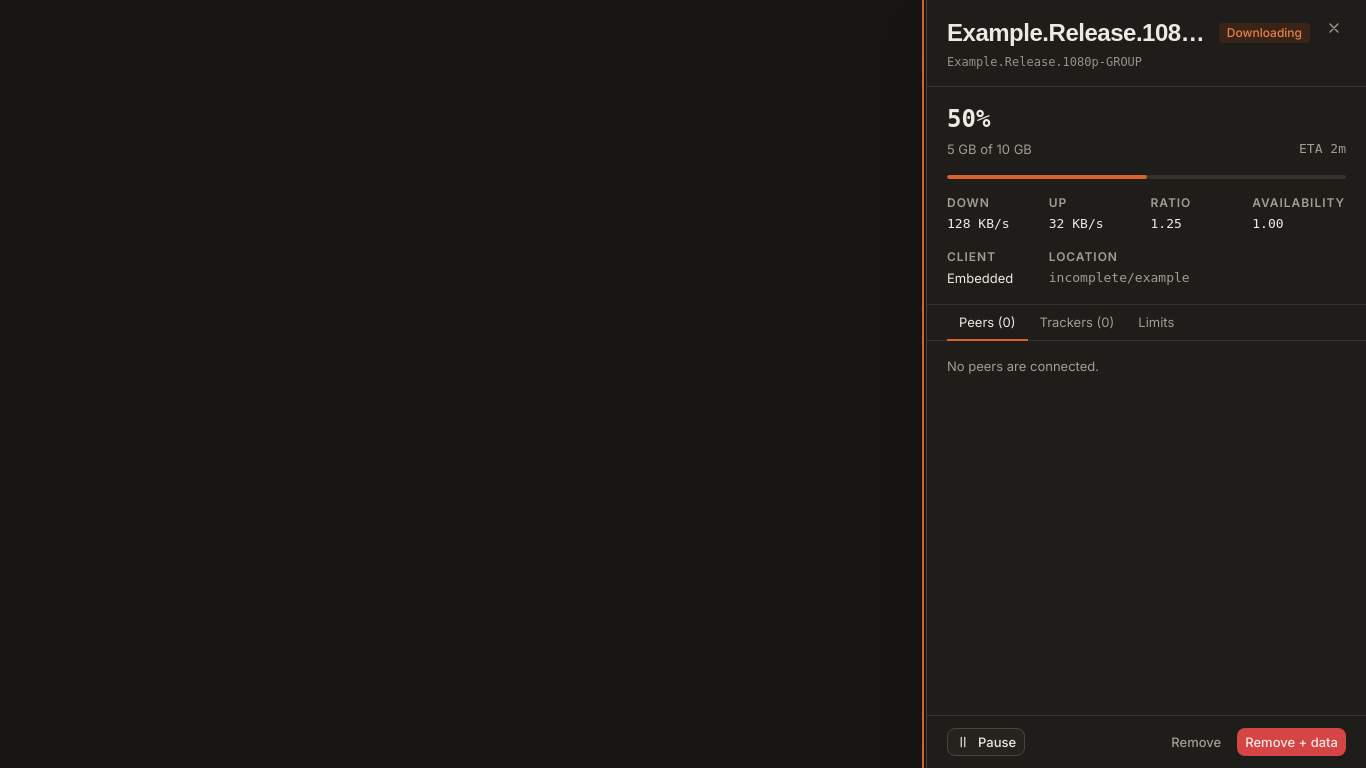
QueueDetailDrawer › links rate-limit help to concurrency settings
Click the tab "Limits": (1156, 323) [1126,305,1186,342]
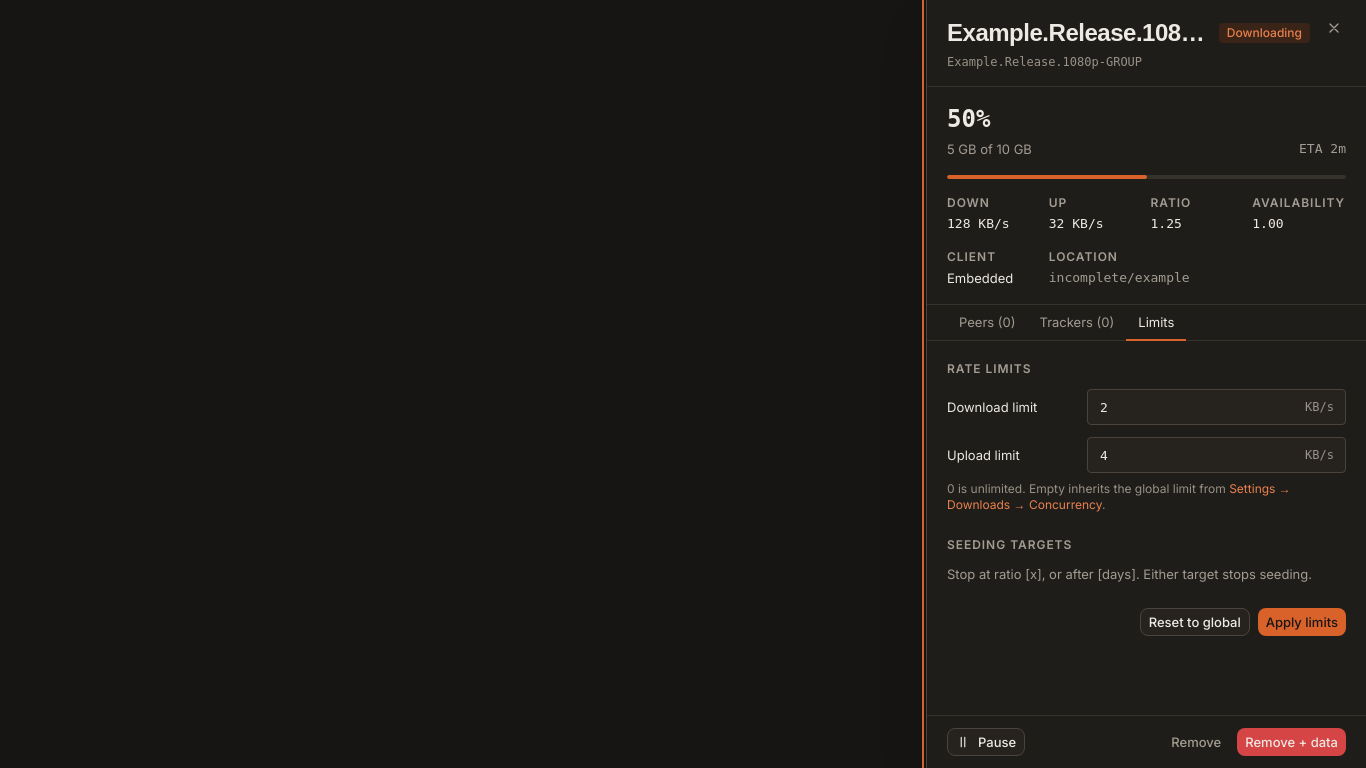
Expected: the link with id "download-concurrency" reads "Settings → Downloads → Concurrency", [947,481,1291,512]
